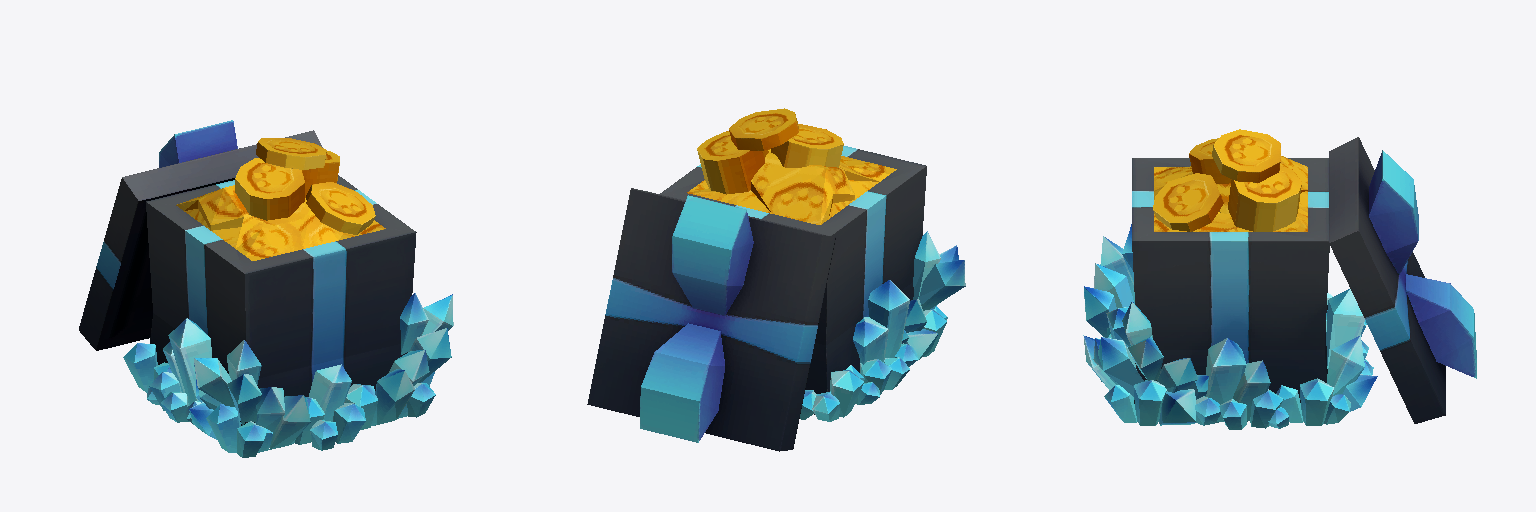
3 renders of one model, left to right at view 1: azimuth 30°, elevation 25°; view 2: azimuth 150°, elevation 25°; view 3: azimuth 270°, elevation 25°, orthographic.
Parts seen in each view (by area): view 1: PresentCrystal1; view 2: PresentCrystal1; view 3: PresentCrystal1.
Boxes of the visible parts, box(x1,y1,x2,y2) form: PresentCrystal1: box(79, 120, 453, 457); PresentCrystal1: box(587, 108, 965, 451); PresentCrystal1: box(1083, 129, 1476, 429).
Size of the model in its own units: 6.67 by 6.03 by 8.75.
1 materials, 1 textured.